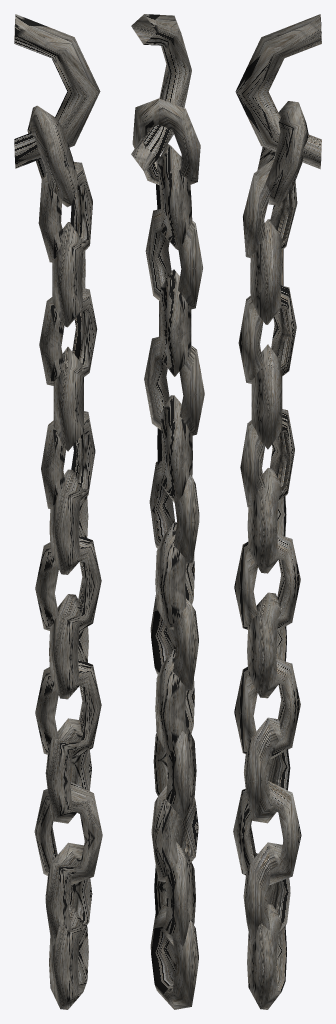
The model's file is SM_GDC2012_Throne_Interior_Chain_05.FBX.
The picture shows the model from 3 angles, left to right: view 1: azimuth 90°, elevation 25°; view 2: azimuth 150°, elevation 25°; view 3: azimuth 270°, elevation 25°; orthographic projection. The views are drawn at different scales.
Visible parts, largest first — view 1: SM_GDC2012_Throne_Interior_Chain_05; view 2: SM_GDC2012_Throne_Interior_Chain_05; view 3: SM_GDC2012_Throne_Interior_Chain_05.
Part boxes in pixels (x1=…): SM_GDC2012_Throne_Interior_Chain_05: x1=14, y1=14, x2=102, y2=1009; SM_GDC2012_Throne_Interior_Chain_05: x1=131, y1=14, x2=204, y2=1009; SM_GDC2012_Throne_Interior_Chain_05: x1=233, y1=14, x2=321, y2=1009.
Size of what is drawn, in the model's own units: 14.94 by 19.22 by 238.
